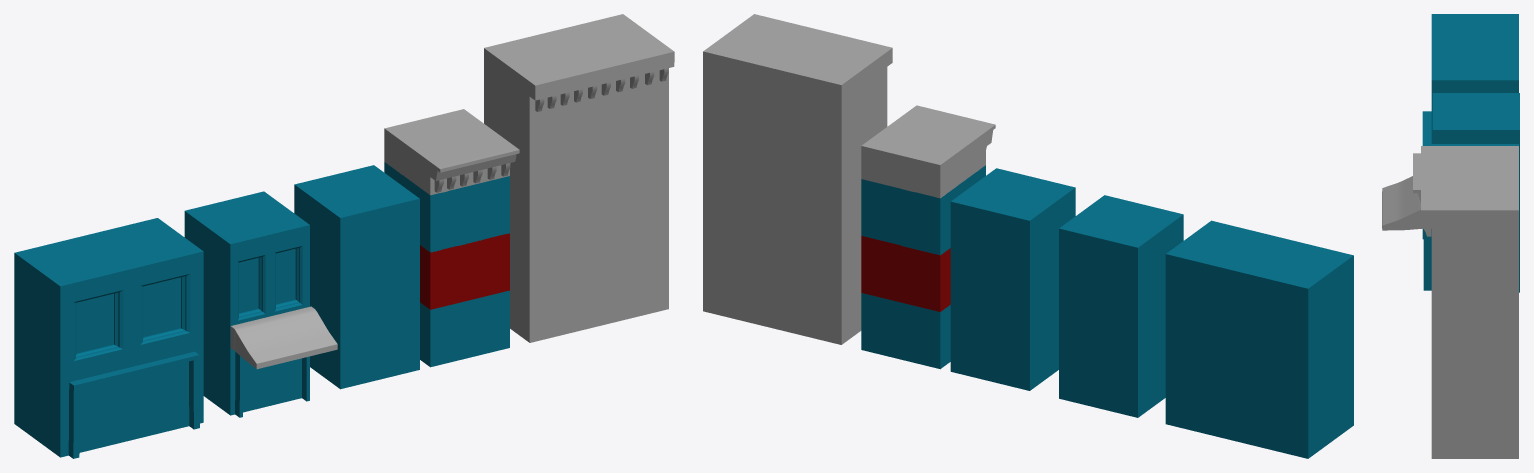
Rendered from Test_Buildings_1.fbx.
The picture shows the model from 3 angles, left to right: view 1: azimuth 30°, elevation 25°; view 2: azimuth 150°, elevation 25°; view 3: azimuth 270°, elevation 25°; orthographic projection. The views are drawn at different scales.
Visible parts, largest first — view 1: pCube22, pCube20, pCube21, pCube15, pCube7, pCube4, pCube5, pCube6, pCube3, pCube8, pCube1, pCube2 (+1 smaller); view 2: pCube22, pCube20, pCube21, pCube15, pCube7, pCube4, pCube5, pCube6, pCube3, pCube8, pCube1, pCube2; view 3: pCube15, pCube22, pCube21, pCube5, pCube6, pCube4, pCube7, pPlane1, pCube3, pCube20.
Boxes of the visible parts, left/top/right/bottom form: pCube22: left=14, top=218, right=203, bottom=458; pCube20: left=294, top=165, right=419, bottom=389; pCube21: left=184, top=191, right=309, bottom=417; pCube15: left=484, top=14, right=674, bottom=114; pCube7: left=484, top=81, right=668, bottom=170; pCube4: left=510, top=251, right=668, bottom=342; pCube5: left=510, top=194, right=668, bottom=285; pCube6: left=510, top=137, right=668, bottom=227; pCube3: left=384, top=109, right=519, bottom=195; pCube8: left=384, top=162, right=509, bottom=252; pCube1: left=420, top=290, right=509, bottom=367; pCube2: left=420, top=233, right=509, bottom=309; pCube22: left=1165, top=220, right=1353, bottom=458; pCube20: left=950, top=168, right=1075, bottom=390; pCube21: left=1059, top=195, right=1183, bottom=417; pCube15: left=703, top=14, right=892, bottom=118; pCube7: left=703, top=84, right=887, bottom=173; pCube4: left=703, top=254, right=861, bottom=344; pCube5: left=703, top=197, right=861, bottom=287; pCube6: left=703, top=140, right=861, bottom=230; pCube3: left=861, top=105, right=995, bottom=198; pCube8: left=861, top=165, right=985, bottom=255; pCube1: left=861, top=293, right=950, bottom=369; pCube2: left=861, top=236, right=950, bottom=311; pCube15: left=1421, top=146, right=1518, bottom=242; pCube22: left=1422, top=14, right=1518, bottom=239; pCube21: left=1423, top=93, right=1519, bottom=292; pCube5: left=1431, top=349, right=1518, bottom=404; pCube6: left=1431, top=295, right=1518, bottom=350; pCube4: left=1431, top=404, right=1518, bottom=458; pCube7: left=1431, top=242, right=1518, bottom=296; pPlane1: left=1382, top=176, right=1431, bottom=230; pCube3: left=1413, top=153, right=1420, bottom=202; pCube20: left=1431, top=144, right=1518, bottom=145.
Size of the model in its own units: 306 by 126 by 63.16.
